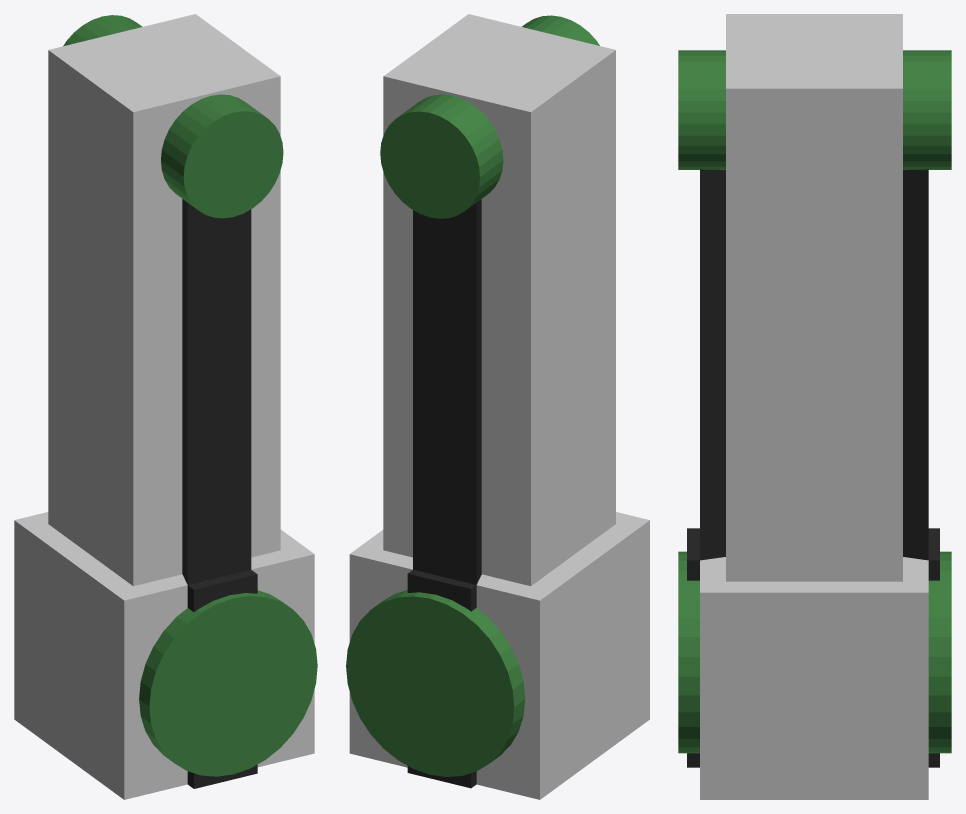
Rendered from arm.fbx.
3 renders of one model, left to right at view 1: azimuth 30°, elevation 25°; view 2: azimuth 150°, elevation 25°; view 3: azimuth 270°, elevation 25°, orthographic. The views are drawn at different scales.
Parts seen in each view (by area): view 1: Cube, Cube.002, Cube.001; view 2: Cube, Cube.002, Cube.001; view 3: Cube, Cube.001, Cube.002.
Part boxes in pixels (x1,y1,x2,y2): Cube: [14, 14, 314, 799]; Cube.002: [139, 590, 317, 776]; Cube.001: [63, 15, 283, 218]; Cube: [349, 14, 649, 799]; Cube.002: [346, 590, 525, 776]; Cube.001: [380, 15, 599, 218]; Cube: [687, 14, 939, 799]; Cube.001: [678, 50, 951, 169]; Cube.002: [678, 551, 951, 753].
Bounding box in the file's own units: 200 × 676 × 239.
